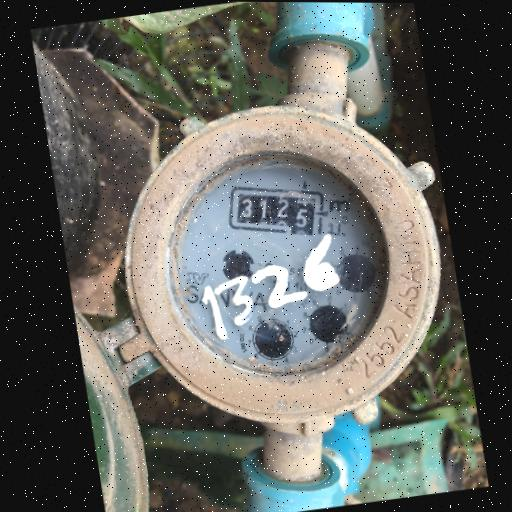1: (250, 192, 277, 228)
2: (268, 193, 297, 229)
3: (233, 191, 261, 227)
5: (285, 193, 320, 238)
border_water_meter_number: (220, 171, 332, 249)
